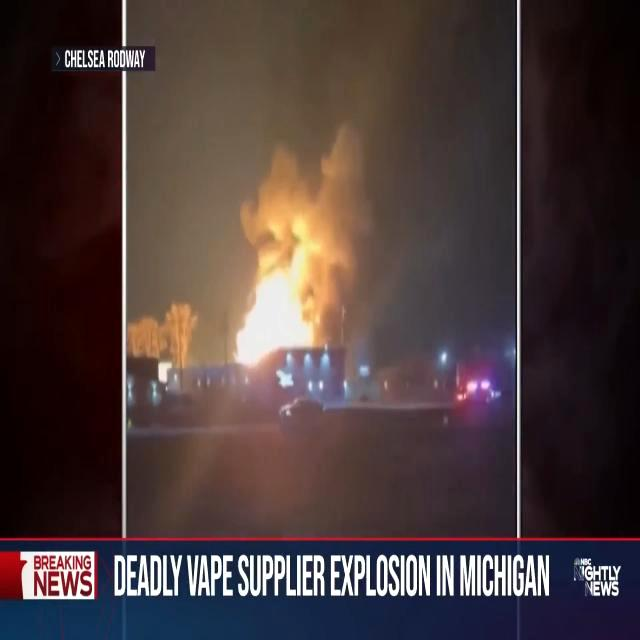fire: (240, 125, 360, 398)
